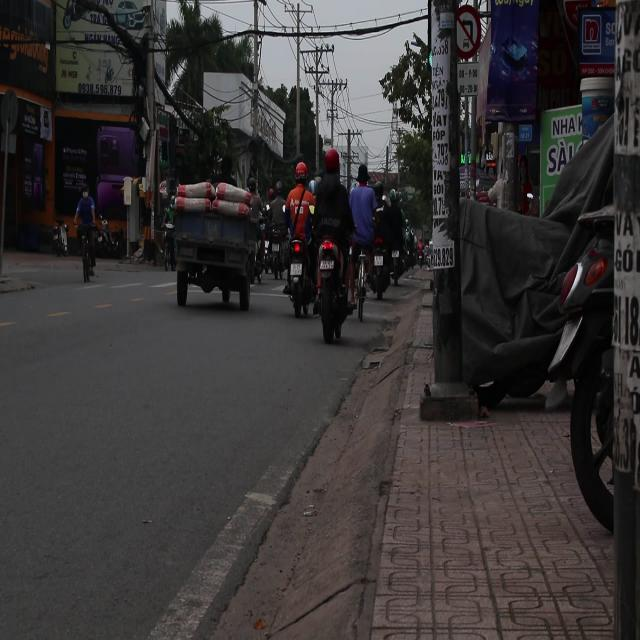motorbike: (540, 166, 638, 566), (314, 230, 349, 342), (283, 208, 316, 318), (266, 210, 292, 284)
truck: (171, 180, 262, 310)
